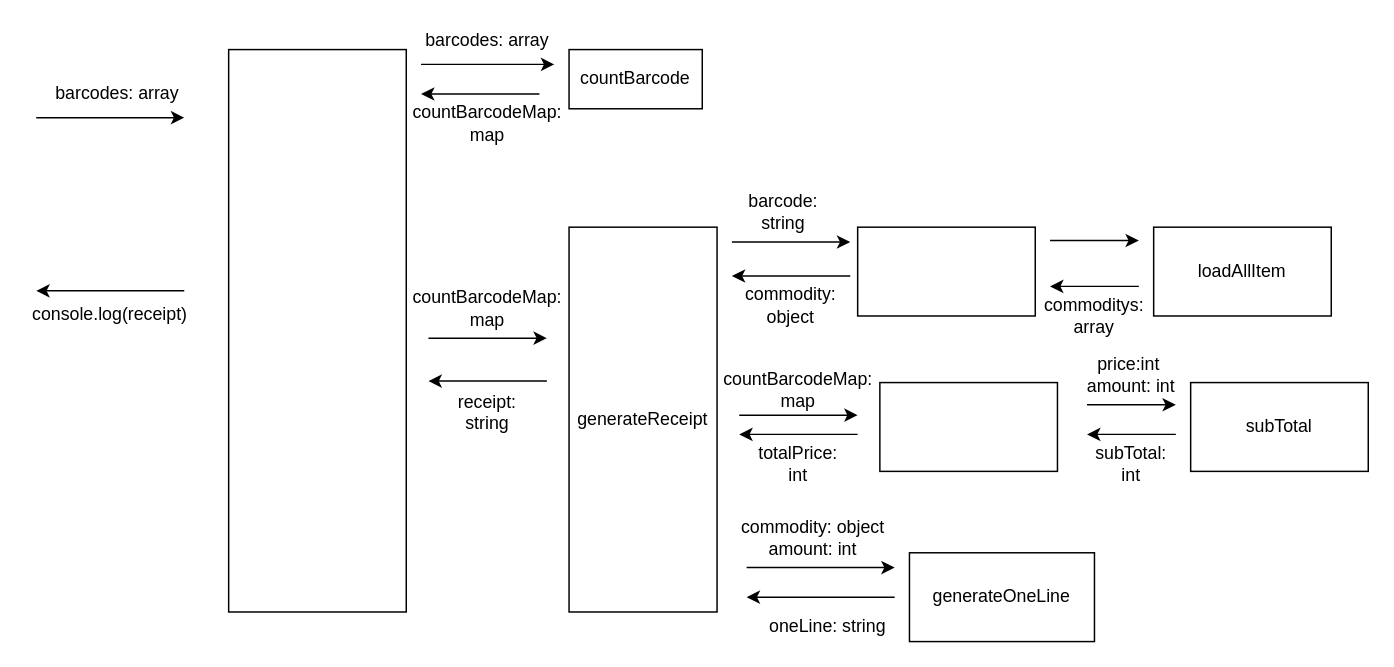
The diagram is 1394 pixels wide and 667 high, and some of its shapes have lost their labels. The shapes that lost their labels are listed below. From the top down, each one's box as (x1, y1, x2, y2) in pixels, then its label:
(856, 226, 1035, 316): decodeBarcode
(227, 48, 406, 612): generateReceipt ByBarcodes
(878, 381, 1057, 471): totalPrice
